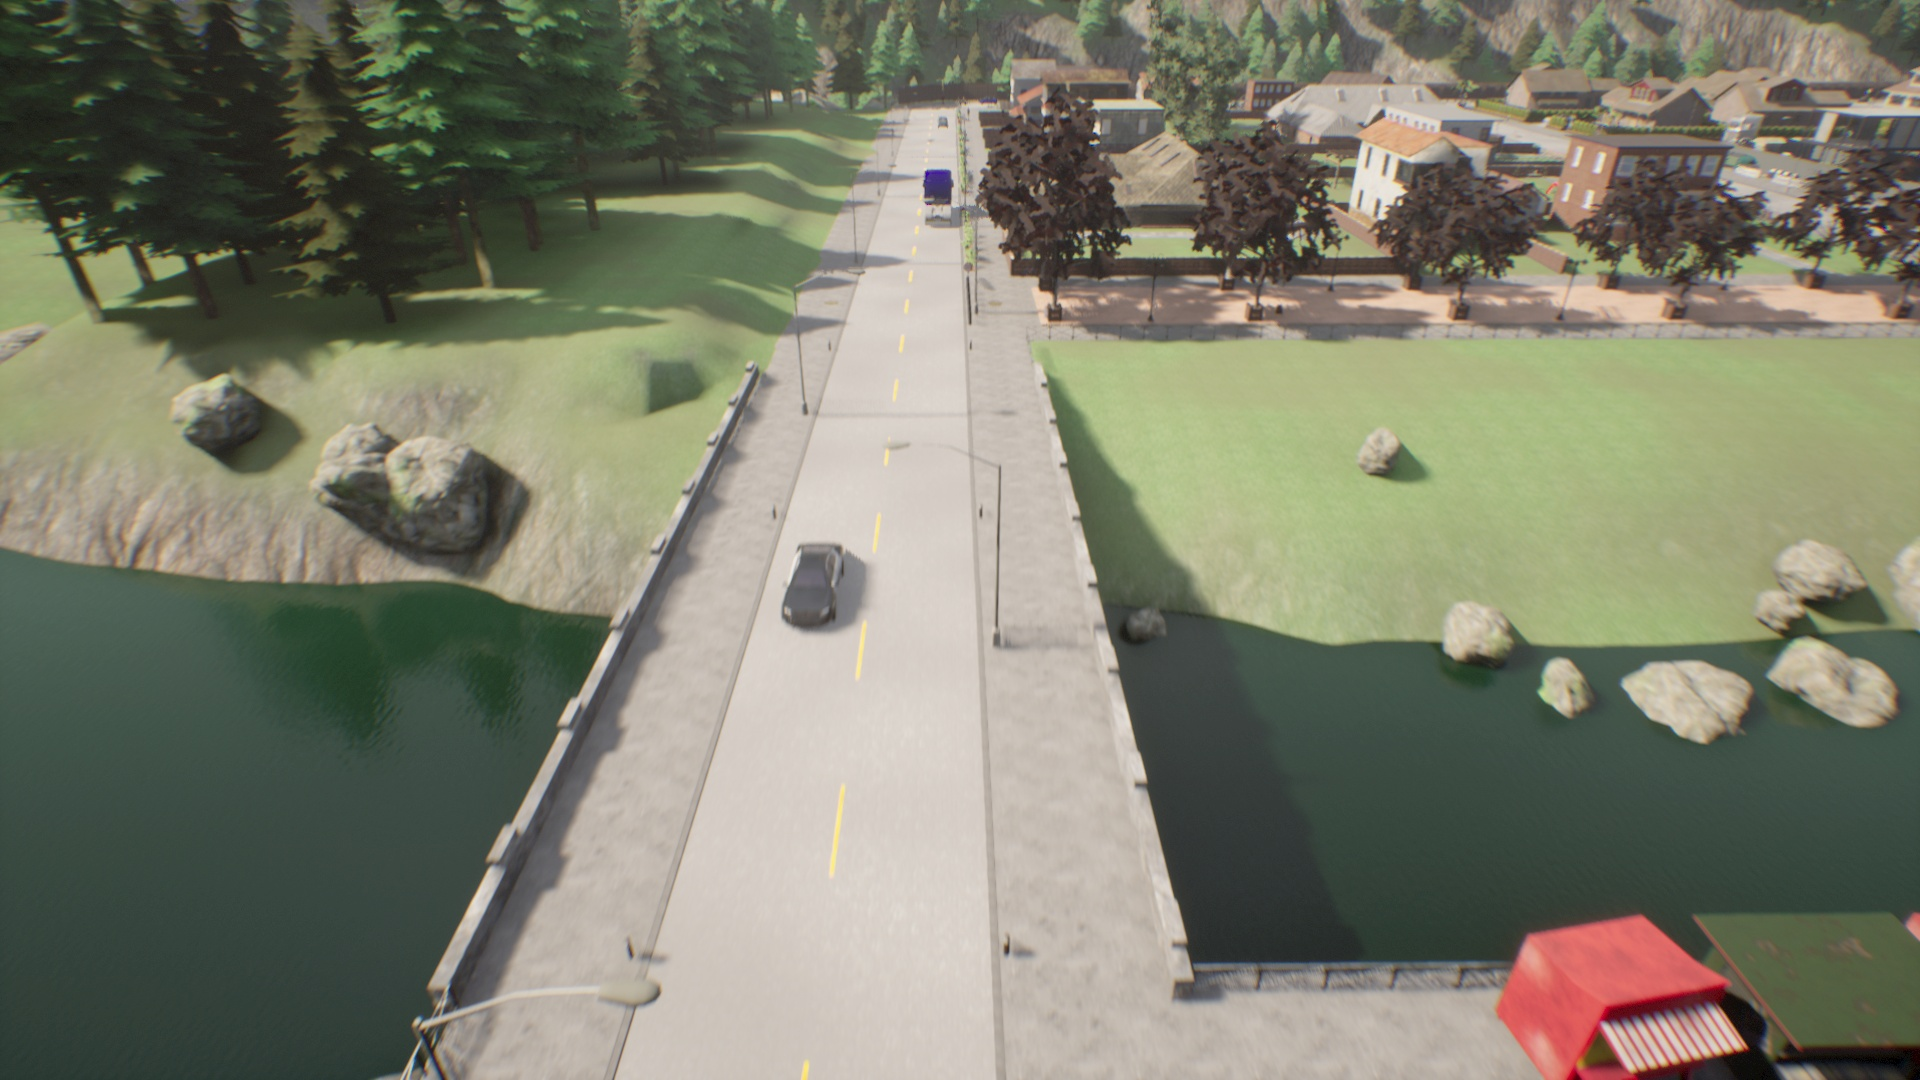Car: (781, 535, 837, 630), (936, 116, 955, 133)
Truck: (919, 169, 959, 229)
